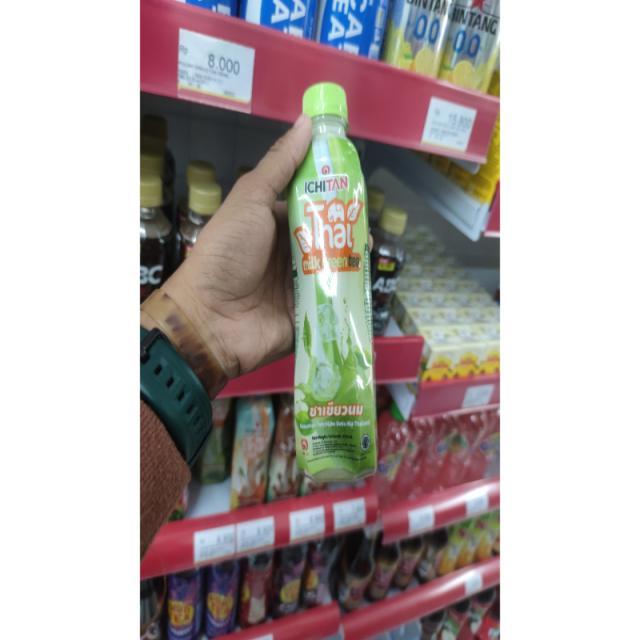botol: (261, 48, 405, 530)
